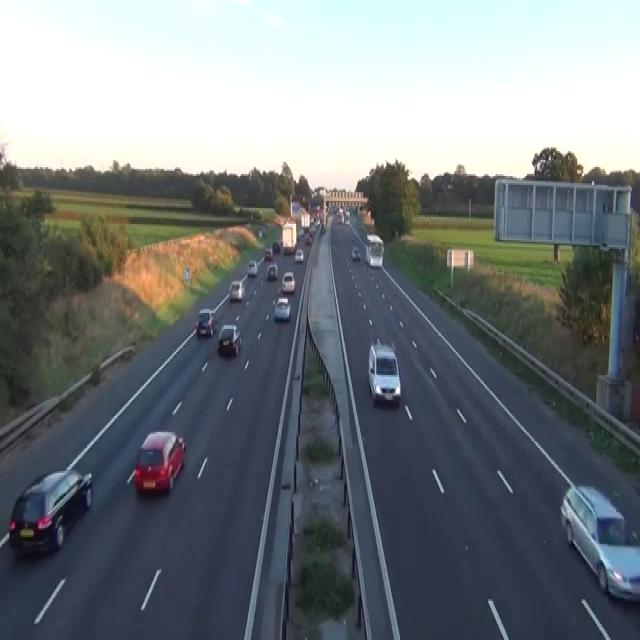Car: (560, 482, 639, 602), (8, 468, 92, 554), (133, 430, 186, 494), (367, 338, 401, 405), (217, 324, 242, 356), (195, 309, 215, 338), (273, 297, 290, 322), (632, 297, 639, 355), (229, 279, 245, 301), (281, 270, 295, 294), (366, 233, 383, 245), (247, 260, 258, 276), (266, 263, 277, 279), (351, 246, 360, 260), (294, 249, 304, 261), (283, 244, 295, 254), (264, 247, 272, 260), (272, 240, 280, 252), (319, 224, 326, 235), (308, 224, 315, 235), (305, 233, 312, 243), (297, 228, 304, 238), (314, 217, 320, 226), (337, 215, 342, 224), (344, 217, 349, 224), (259, 230, 262, 238)
Truck: (365, 233, 384, 267), (281, 220, 297, 254), (301, 212, 310, 230)
